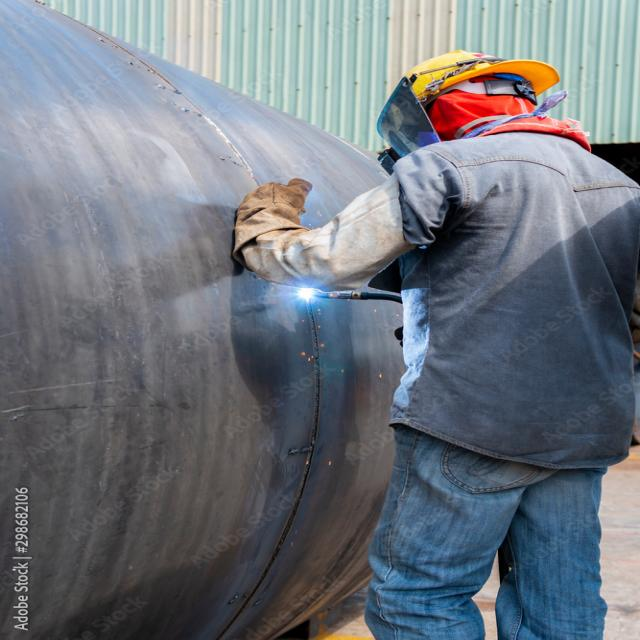welding: (288, 285, 316, 303)
